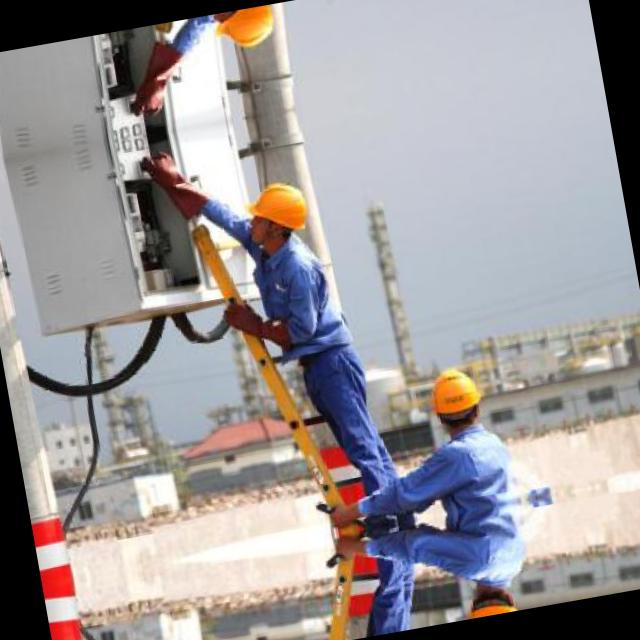helmet: (236, 169, 316, 255), (418, 359, 489, 436), (205, 4, 283, 59), (457, 578, 522, 618)
